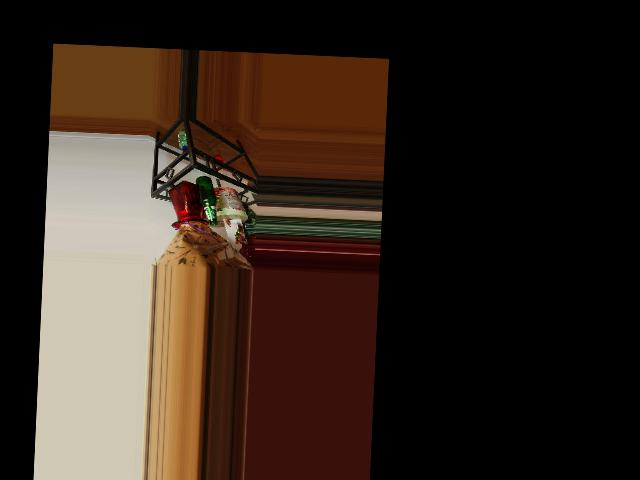beer: (194, 175, 219, 225)
